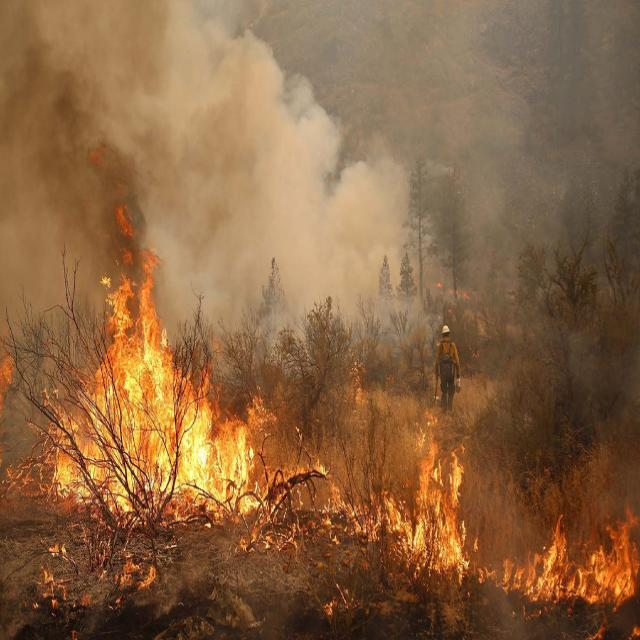Fire: (30, 140, 281, 530), (303, 411, 482, 591), (494, 502, 640, 614)
Smoke: (0, 0, 427, 352)
